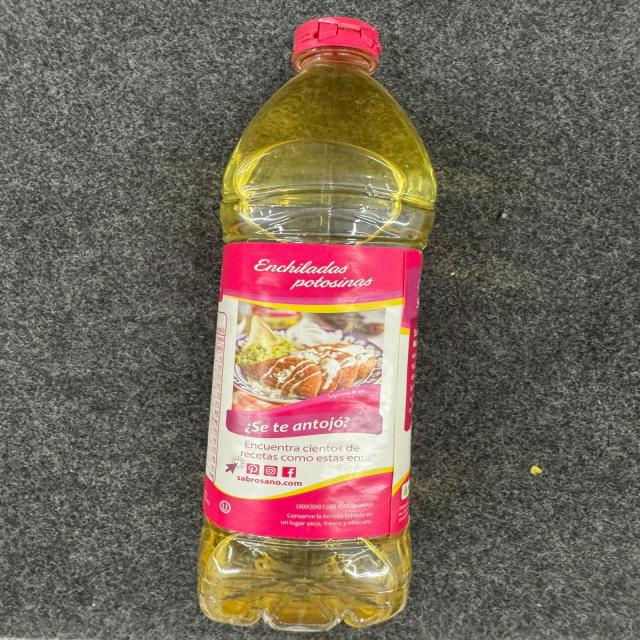Aceite Sabrosano 850ml: (191, 12, 441, 627)
